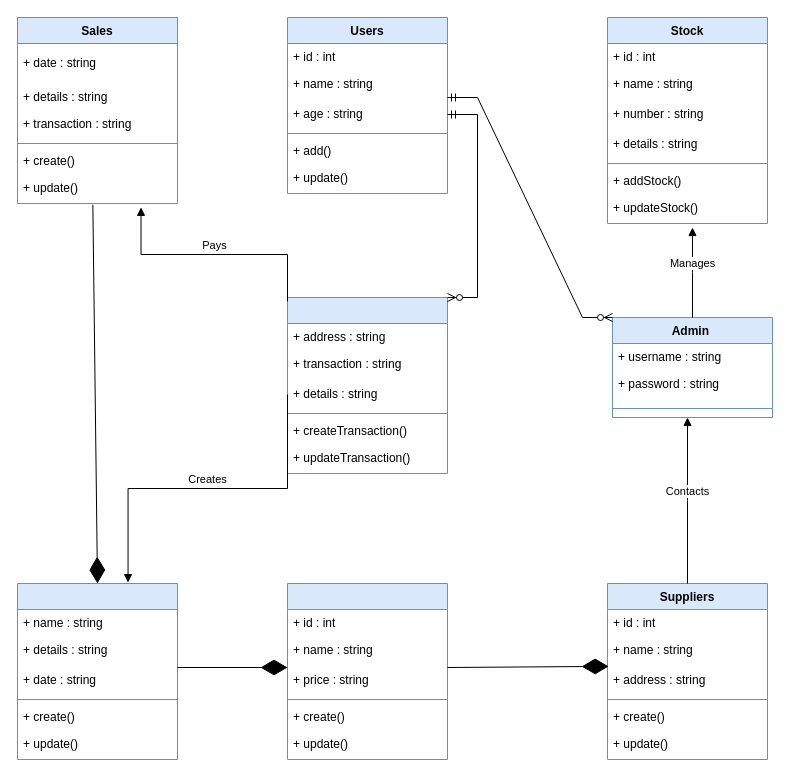
This 790x777 diagram has some shape labels left out. The box of each missing label's shape, as (x1, y1, x2, y2) in pixels:
Customer: (286, 296, 448, 474)
Products: (286, 582, 448, 760)
Transaction: (16, 582, 178, 760)
